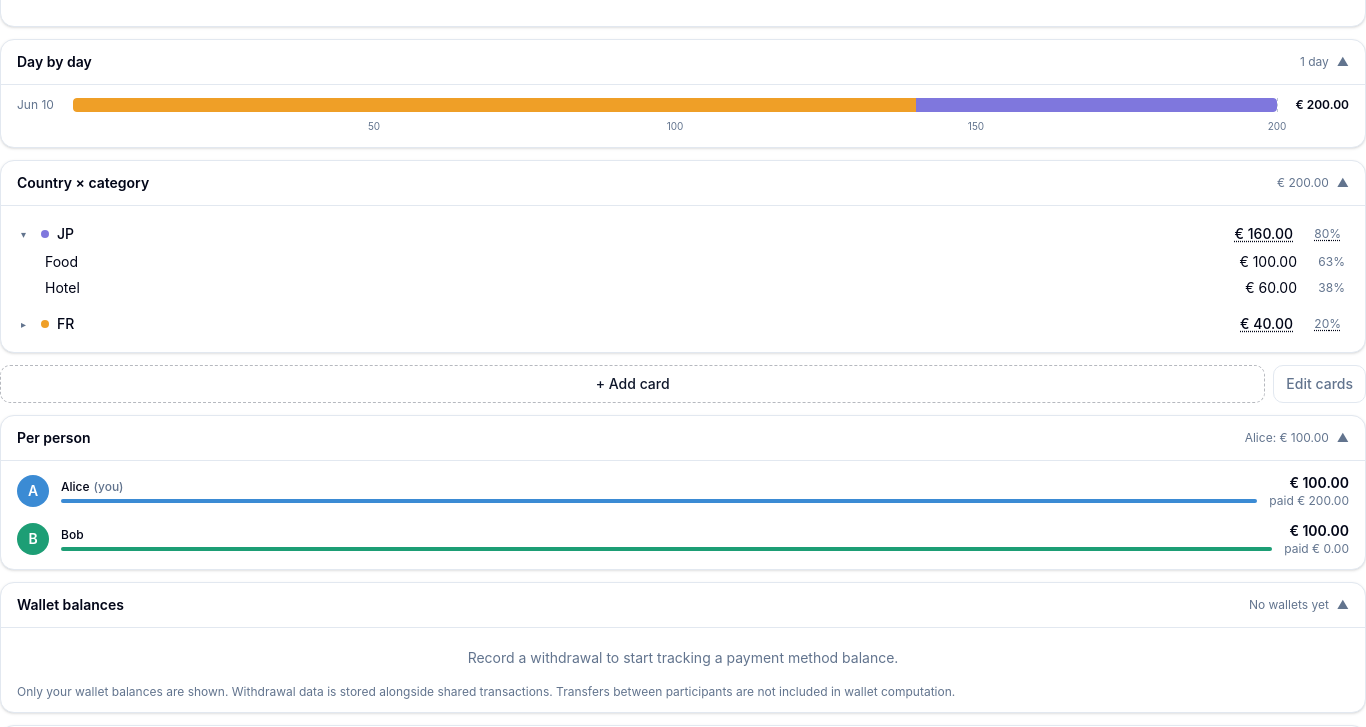
Test: DashboardTab — pivot cards › disables second-dimension options that would complete an existing pair, and leaves the reverse order available
(page scrolled)
Click the button "+ Add card" at (633, 384), box [0, 365, 1265, 403]
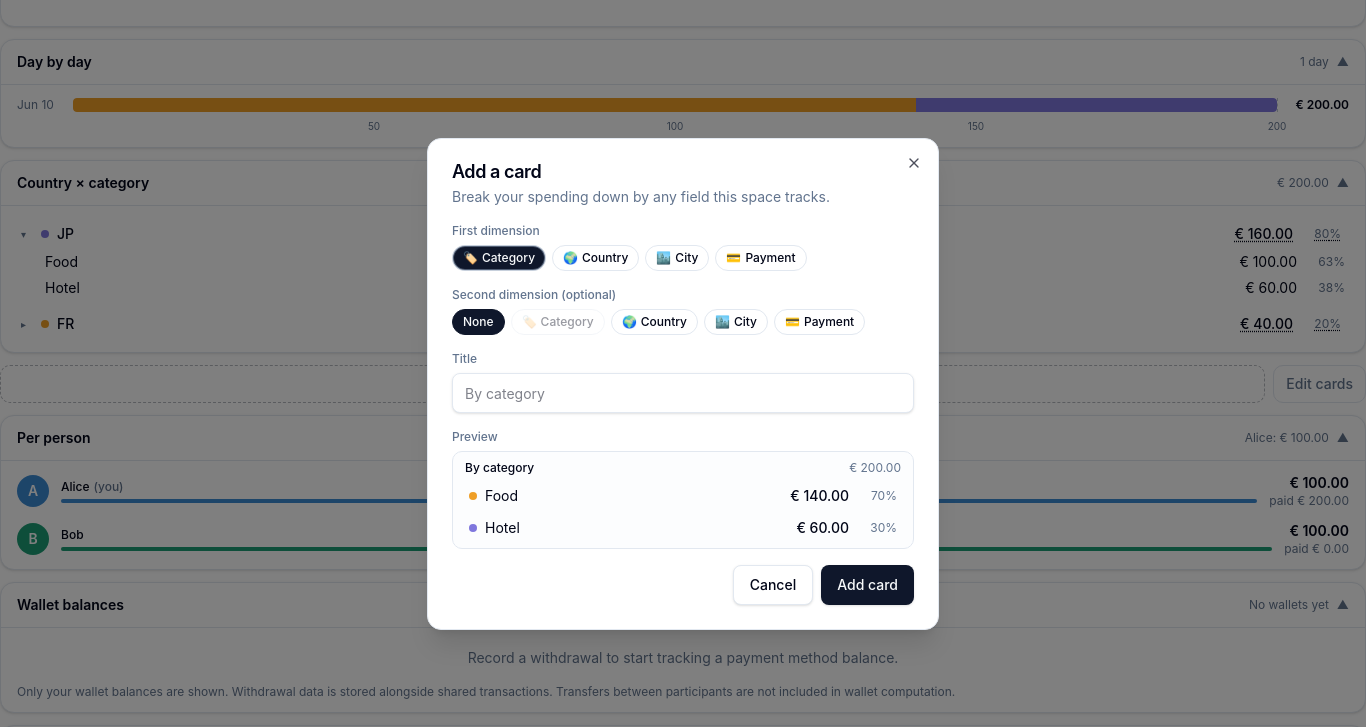
# Start a pivot on country — legal, even though [country] is free here.
Click the button "🌍 Country" below "First dimension" at (596, 258), box [552, 245, 639, 271]
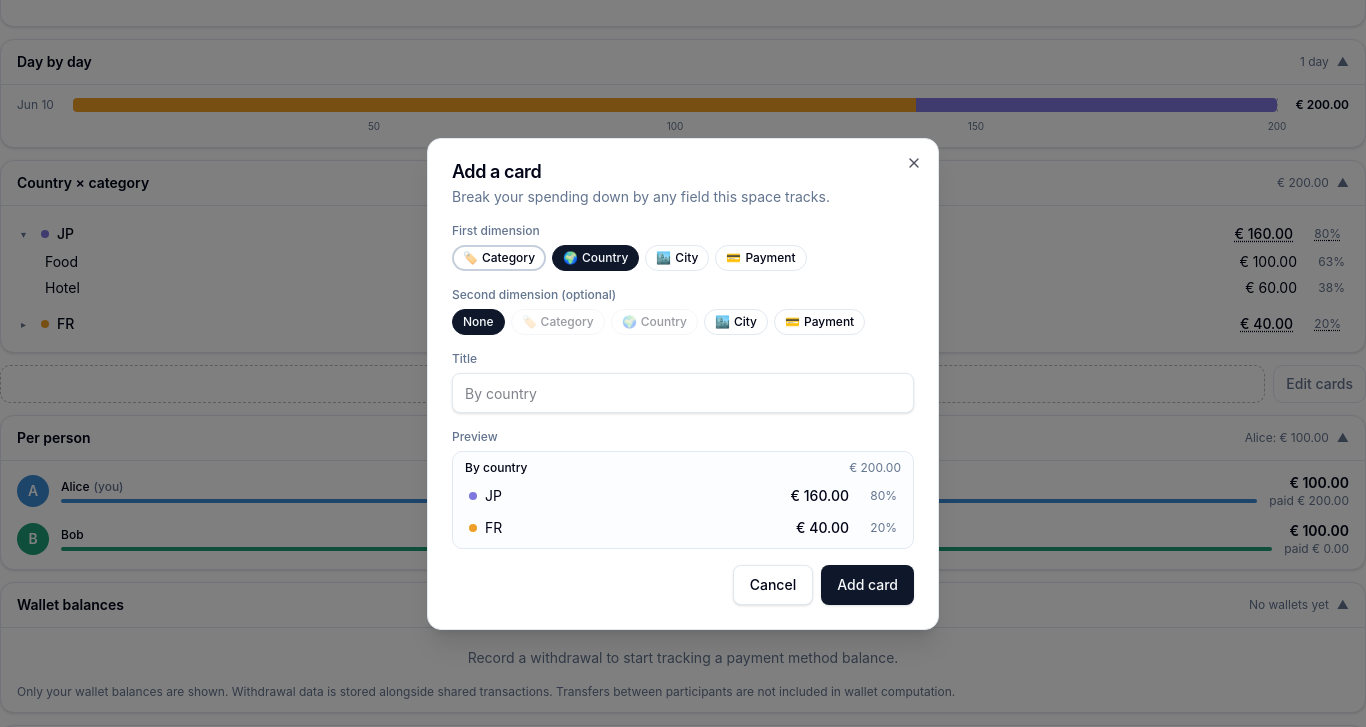
Result: the button "🏷️ Category" below "Second dimension (optional)" is disabled at [511, 309, 605, 335]
Click the button "🏷️ Category" below "First dimension" at (499, 258), box [452, 245, 546, 271]
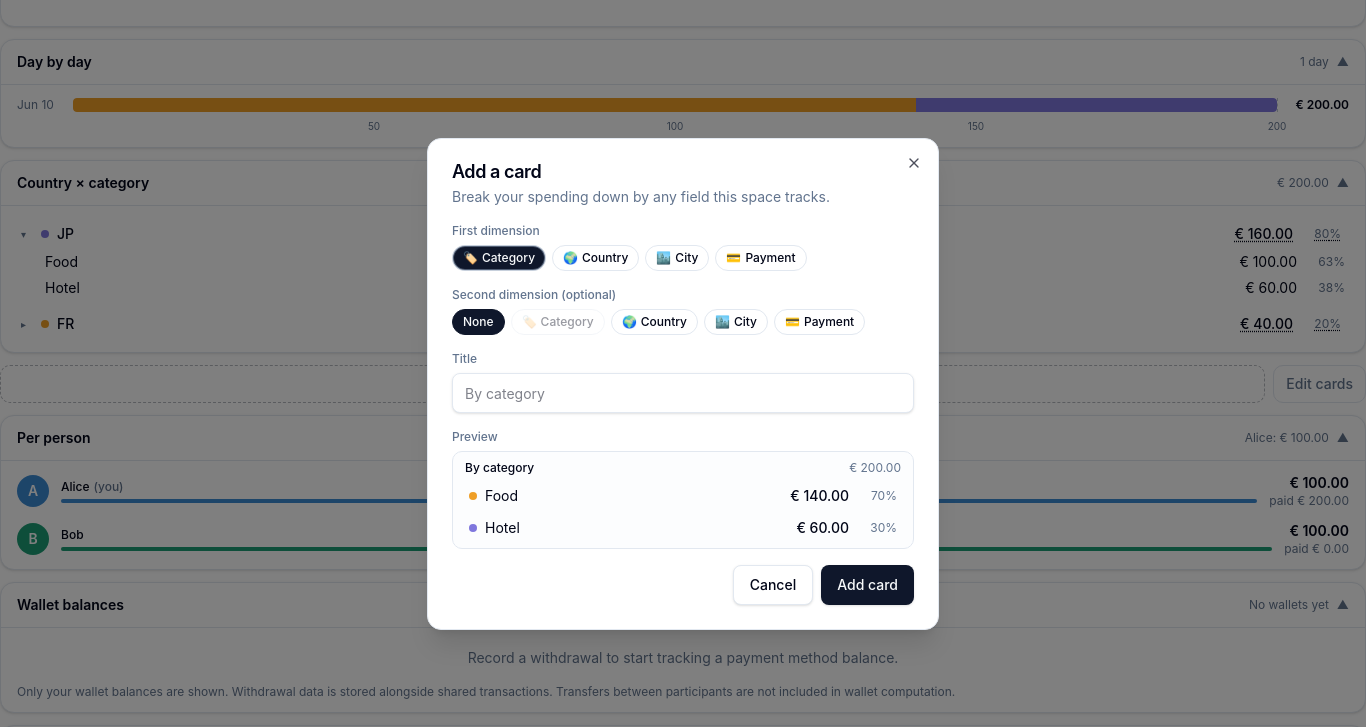
Result: the button "🌍 Country" below "Second dimension (optional)" is enabled at [611, 309, 698, 335]
